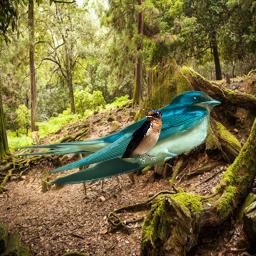Swallow: (8, 90, 221, 186), (120, 109, 162, 164)
